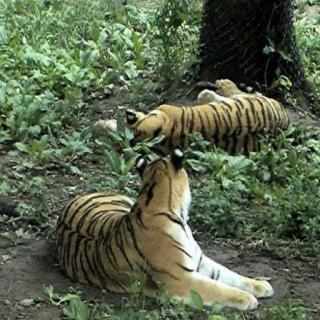Tiger: (45, 151, 281, 311), (120, 74, 296, 163)
